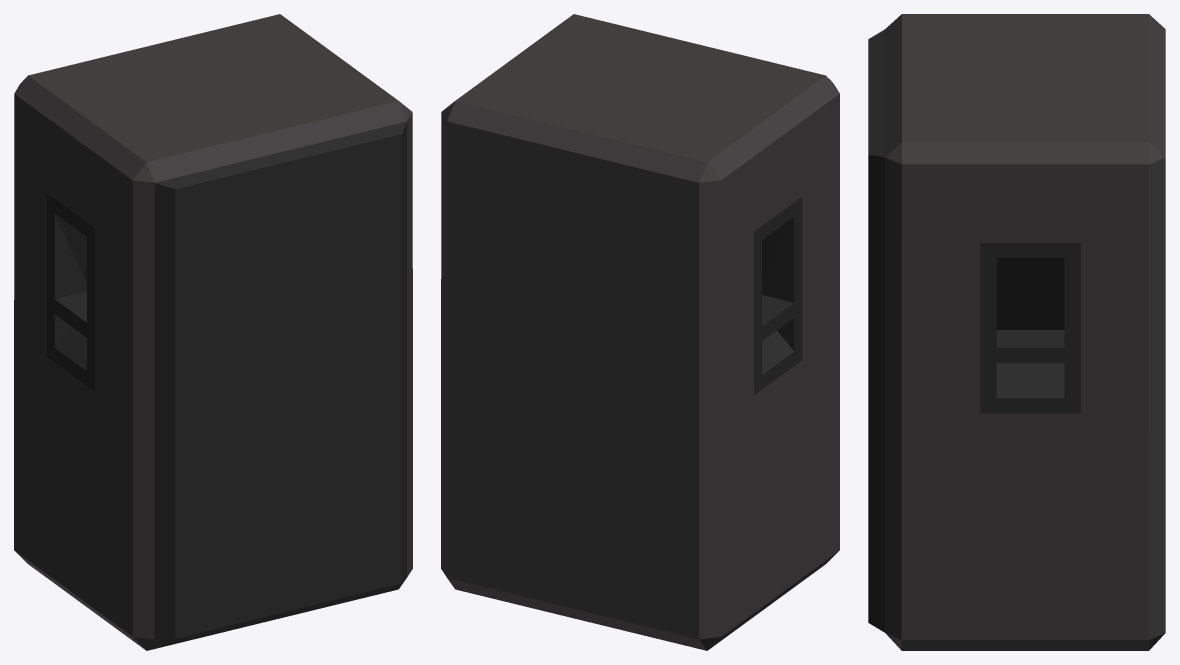
The model's file is speaker-tower.glb.
3 renders of one model, left to right at view 1: azimuth 30°, elevation 25°; view 2: azimuth 150°, elevation 25°; view 3: azimuth 270°, elevation 25°, orthographic. The views are drawn at different scales.
Visible parts, largest first — view 1: speaker-tower; view 2: speaker-tower; view 3: speaker-tower.
Part boxes in pixels (left/top/right/bottom): speaker-tower: left=14, top=14, right=412, bottom=650; speaker-tower: left=441, top=14, right=839, bottom=650; speaker-tower: left=868, top=14, right=1165, bottom=650.
Bounding box in the file's own units: 0.5999 × 1 × 0.53.
1 material, 1 textured.
